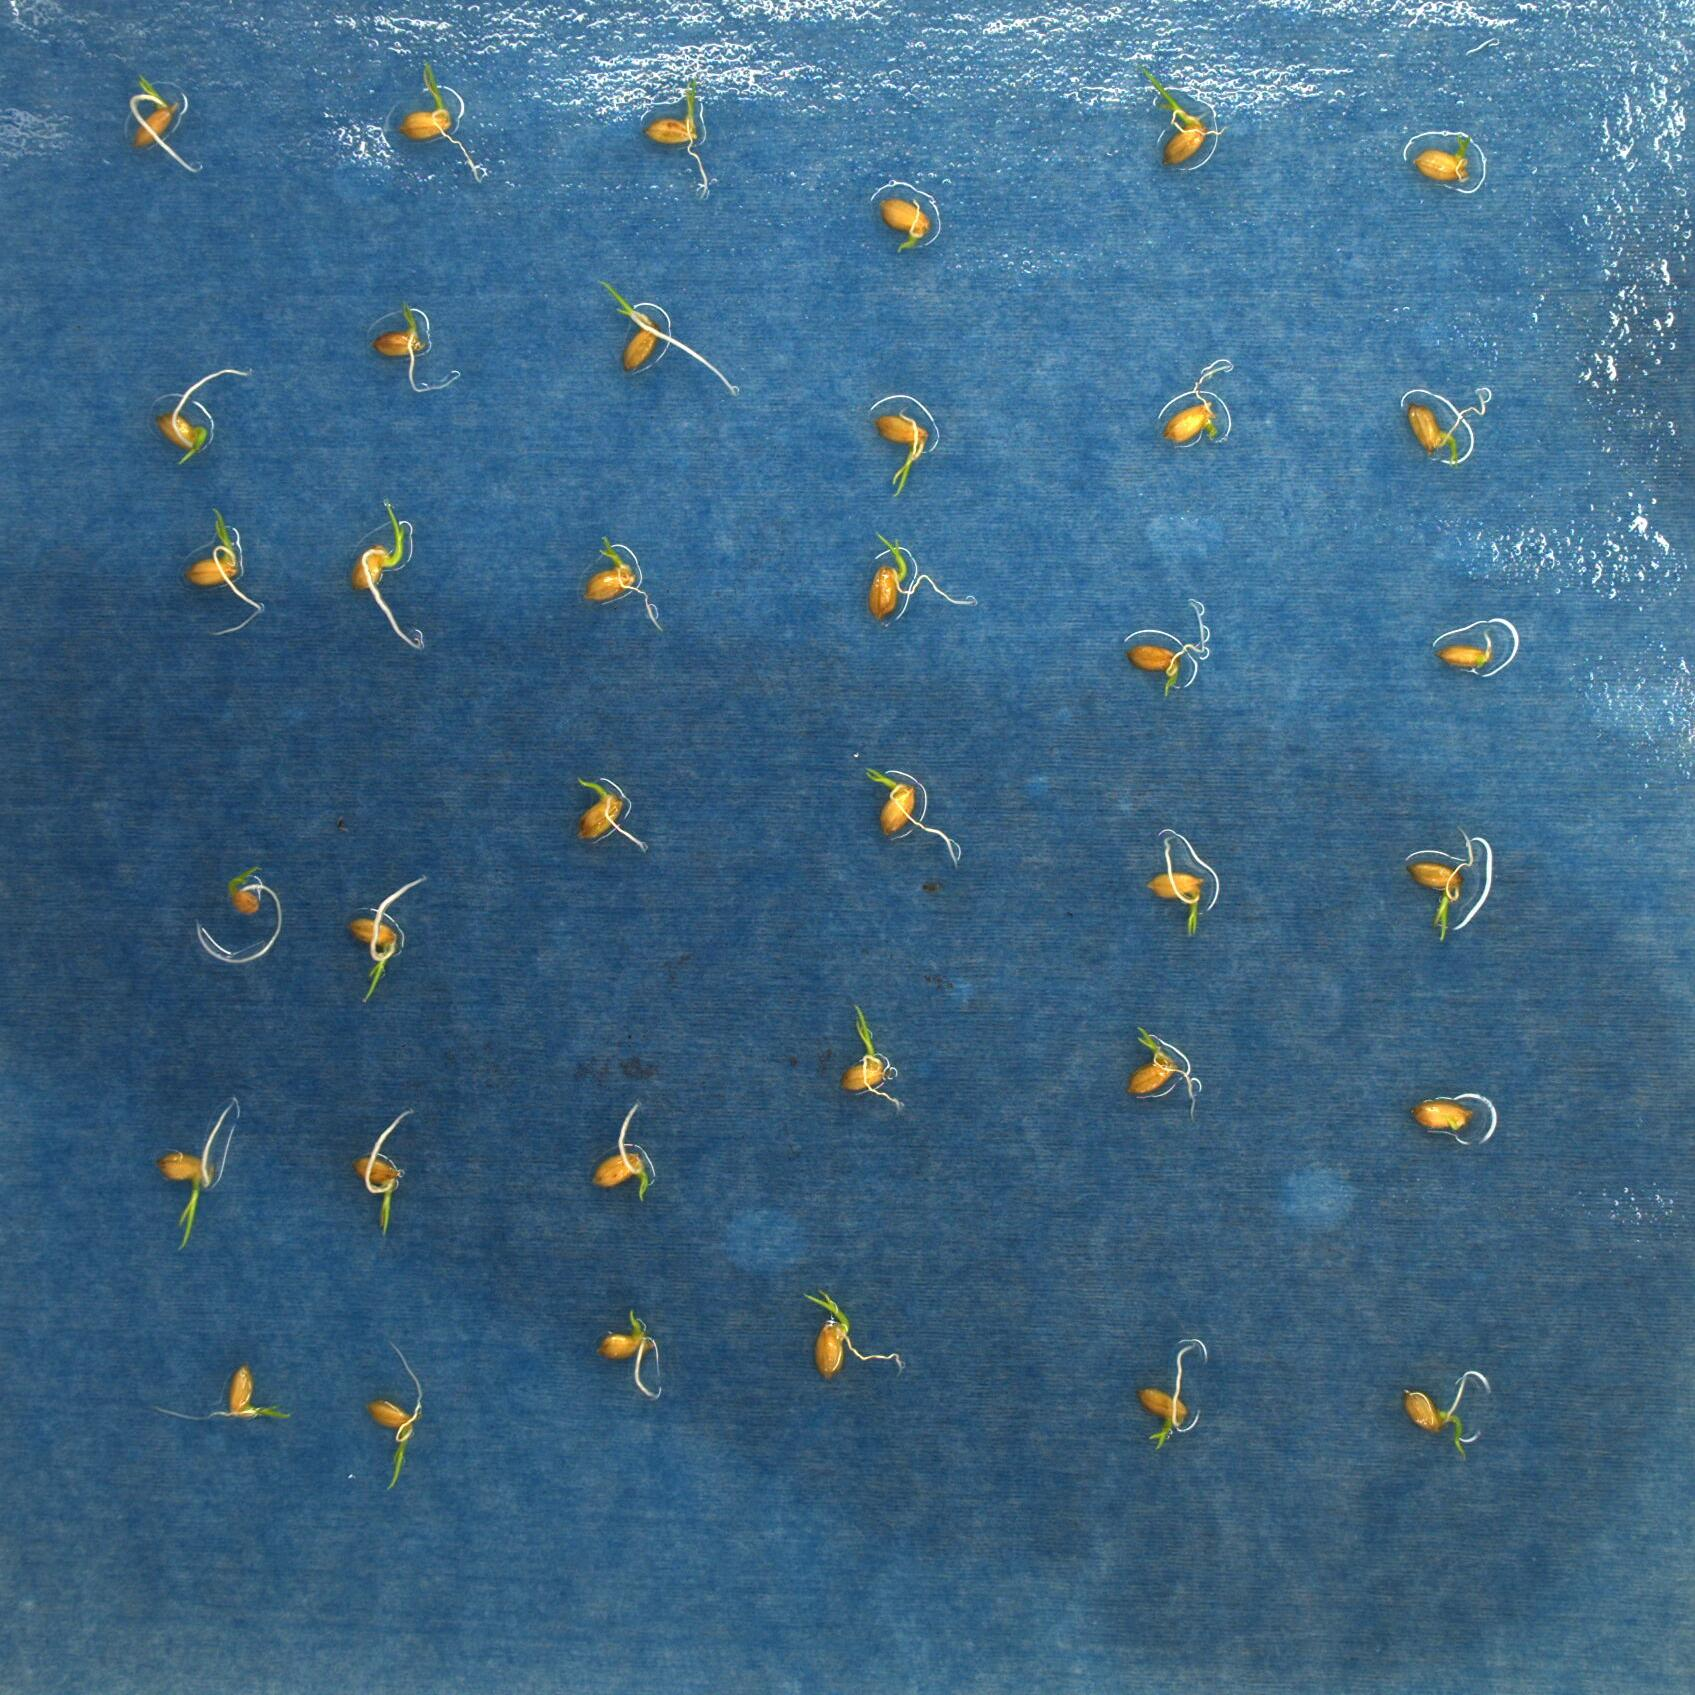not sprout: (1164, 359, 1239, 445), (1409, 1088, 1471, 1136), (1439, 629, 1492, 671)
sprout: (581, 265, 737, 390), (348, 497, 424, 655), (397, 62, 489, 186), (858, 764, 962, 871), (182, 504, 262, 638), (157, 1104, 231, 1246), (348, 875, 428, 1004), (868, 532, 976, 627), (1136, 62, 1229, 171), (154, 365, 253, 463), (194, 865, 286, 964), (799, 1288, 900, 1377), (366, 1340, 422, 1495), (151, 1360, 295, 1419), (373, 300, 463, 393), (587, 532, 667, 632), (1400, 1367, 1487, 1458), (1125, 602, 1208, 695), (1403, 827, 1471, 939), (647, 82, 712, 199), (129, 75, 203, 175), (352, 1108, 410, 1239), (587, 1094, 653, 1205), (1403, 383, 1492, 466), (841, 1001, 906, 1111), (1141, 1344, 1203, 1451), (599, 1307, 671, 1400), (1128, 1024, 1201, 1108), (573, 781, 650, 854), (1149, 834, 1206, 931), (875, 402, 930, 495), (1405, 130, 1476, 188), (882, 183, 930, 255)
